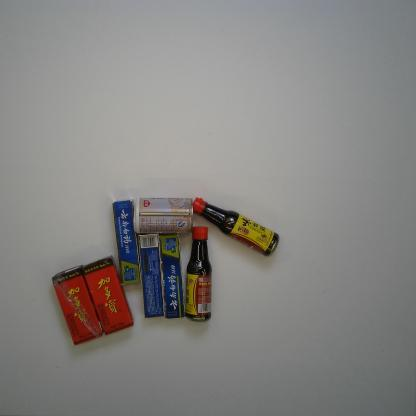Canned Food: (133, 197, 194, 234)
Drink: (82, 254, 135, 336), (52, 264, 103, 346)
Personal Hygiene: (112, 199, 143, 285), (138, 233, 165, 318), (159, 233, 185, 319)
Seasoner: (192, 197, 280, 258), (186, 226, 212, 323)
